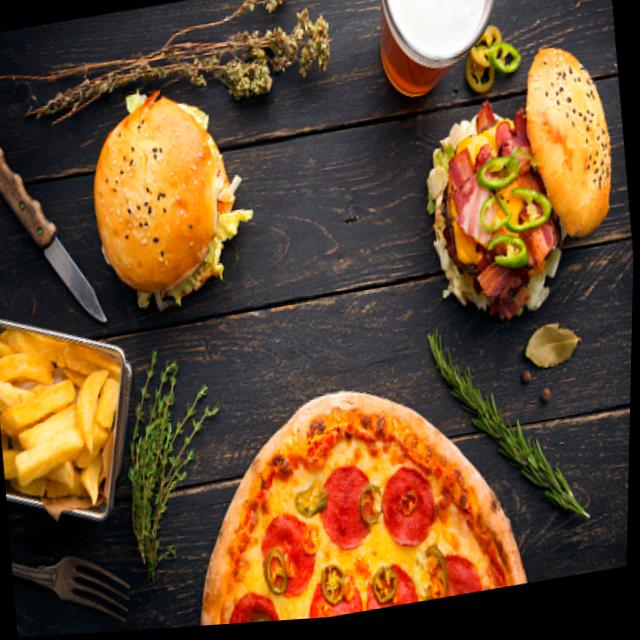burger: (413, 39, 630, 341), (81, 80, 249, 325)
pizza: (185, 365, 537, 630)
